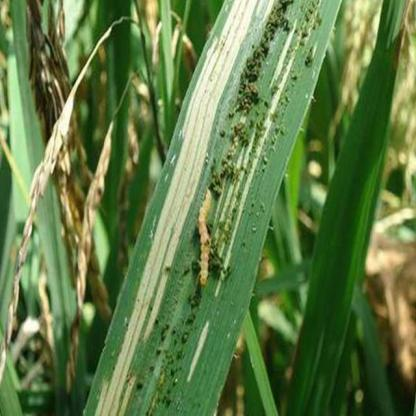leaf-folder: (190, 185, 228, 303)
